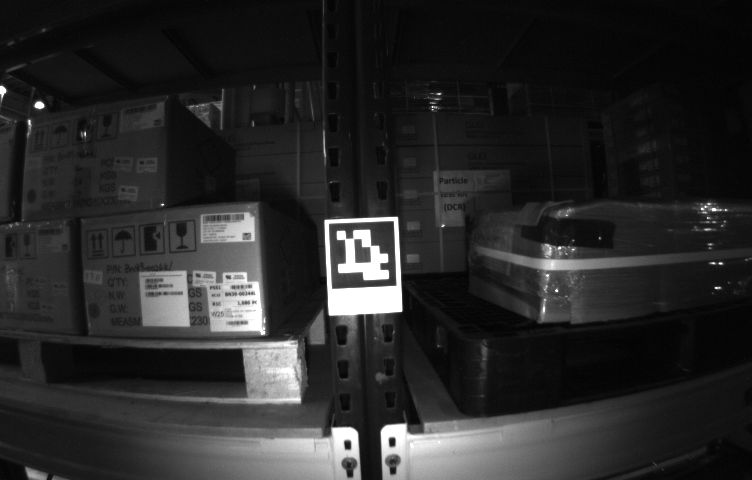True Barcode: (205, 282, 262, 332)
